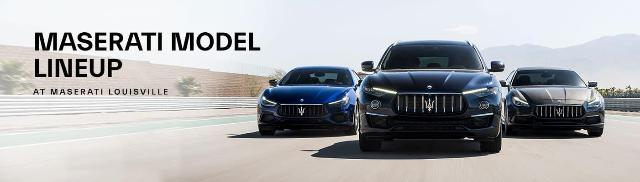maserati: (357, 39, 505, 153), (498, 68, 606, 138), (258, 66, 360, 136)
